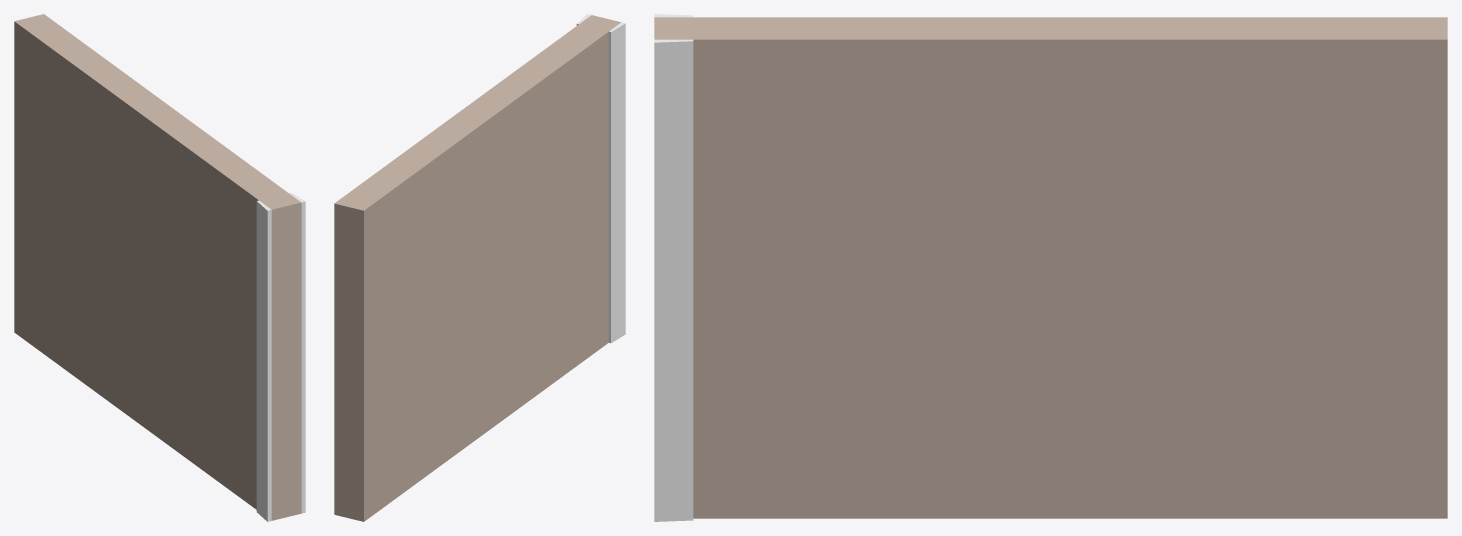
Rendered from Wall.fbx.
3 views of the same model, side by side, from view 1: azimuth 30°, elevation 25°; view 2: azimuth 150°, elevation 25°; view 3: azimuth 270°, elevation 25° (orthographic). The views are drawn at different scales.
Parts seen in each view (by area): view 1: Wall; view 2: Wall; view 3: Wall.
Boxes of the visible parts, left/top/right/bottom form: Wall: left=14, top=14, right=305, bottom=521; Wall: left=334, top=14, right=625, bottom=521; Wall: left=654, top=14, right=1447, bottom=521.
Size of the model in its own units: 3 by 2 by 0.2572.
